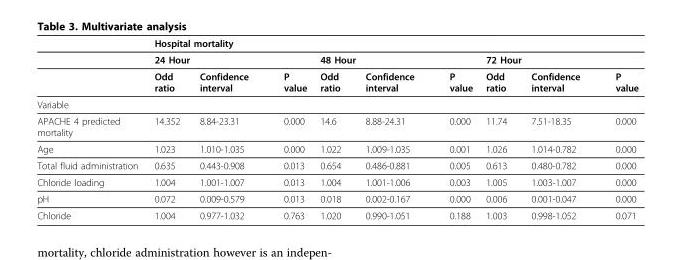table: (36, 37, 637, 220)
table column: (36, 37, 145, 220), (352, 37, 431, 220), (518, 37, 597, 220), (189, 37, 265, 220), (265, 37, 312, 220), (431, 37, 478, 220), (145, 37, 189, 220), (312, 37, 352, 220), (478, 37, 518, 220), (597, 37, 637, 220)
table column header: (36, 37, 637, 95)
table projected row header: (36, 95, 637, 112)
table row: (36, 67, 637, 95), (36, 112, 637, 140), (36, 95, 637, 112), (36, 156, 637, 173), (36, 173, 637, 190), (36, 51, 637, 67), (36, 140, 637, 156), (36, 190, 637, 206), (36, 37, 637, 51), (36, 206, 637, 220)
table spanning cell: (145, 37, 637, 51), (145, 51, 312, 67), (312, 51, 478, 67), (478, 51, 637, 67)
